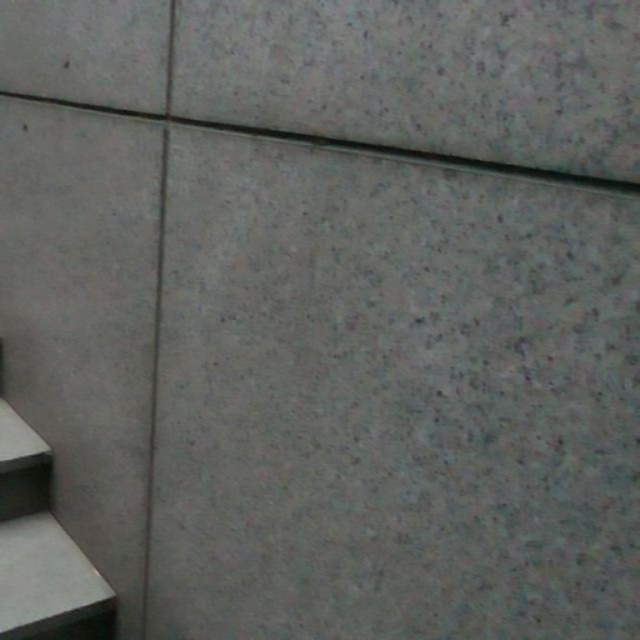stair: (0, 378, 95, 630)
